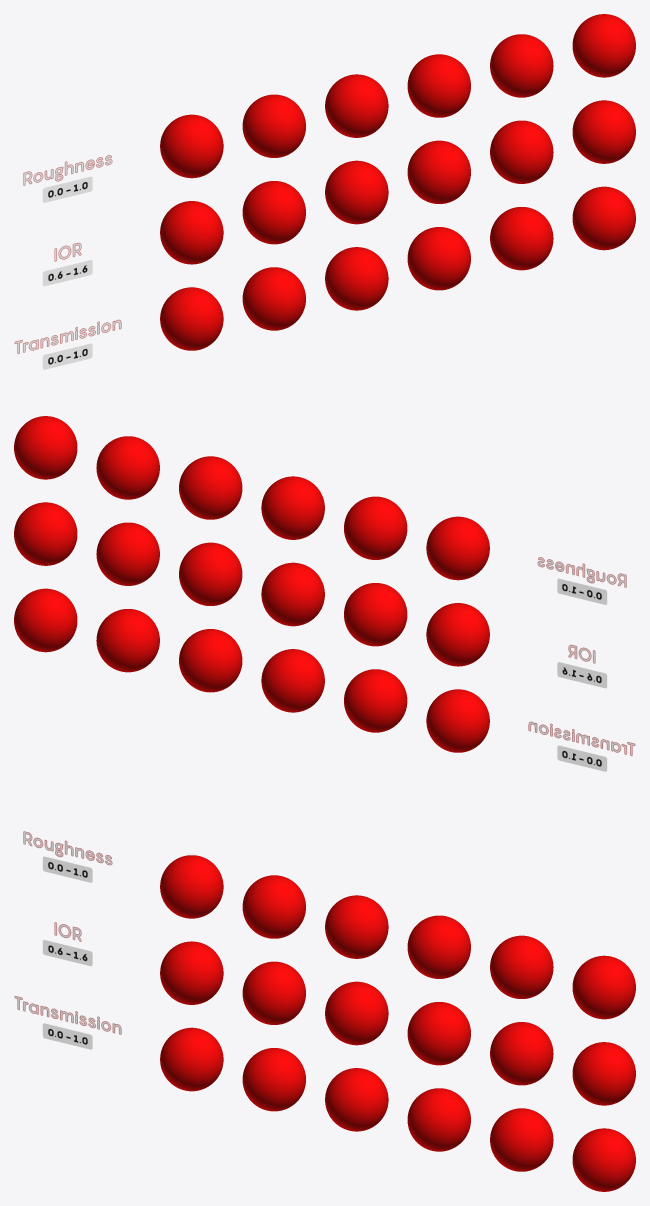
Rendered from TransmissionSpheres.gltf.
3 views of the same model, one above another, from view 1: azimuth 30°, elevation 25°; view 2: azimuth 150°, elevation 25°; view 3: azimuth 330°, elevation 25° (orthographic).
Visible parts, largest first — view 1: object 3, object 17, object 4, object 1, object 6, object 7, object 10, object 11, object 13, object 14, object 15, object 18 (+9 smaller); view 2: object 3, object 17, object 4, object 1, object 6, object 7, object 10, object 11, object 13, object 14, object 15, object 18 (+9 smaller); view 3: object 15, object 5, object 16, object 1, object 2, object 3, object 6, object 7, object 10, object 11, object 13, object 18 (+9 smaller).
Boxes of the visible parts, x1=… form: object 3: x1=325, y1=247, x2=388, y2=310; object 17: x1=490, y1=34, x2=553, y2=97; object 4: x1=407, y1=227, x2=470, y2=290; object 1: x1=160, y1=287, x2=223, y2=350; object 6: x1=572, y1=186, x2=635, y2=250; object 7: x1=160, y1=201, x2=223, y2=264; object 10: x1=407, y1=140, x2=470, y2=203; object 11: x1=490, y1=120, x2=553, y2=183; object 13: x1=160, y1=114, x2=223, y2=178; object 14: x1=242, y1=94, x2=305, y2=157; object 15: x1=325, y1=74, x2=388, y2=137; object 18: x1=572, y1=14, x2=635, y2=77; object 3: x1=261, y1=649, x2=324, y2=712; object 17: x1=96, y1=436, x2=159, y2=499; object 4: x1=179, y1=629, x2=242, y2=692; object 1: x1=426, y1=689, x2=489, y2=752; object 6: x1=14, y1=588, x2=77, y2=652; object 7: x1=426, y1=603, x2=489, y2=666; object 10: x1=179, y1=542, x2=242, y2=605; object 11: x1=96, y1=522, x2=159, y2=585; object 13: x1=426, y1=516, x2=489, y2=580; object 14: x1=344, y1=496, x2=407, y2=559; object 15: x1=261, y1=476, x2=324, y2=539; object 18: x1=14, y1=416, x2=77, y2=479; object 15: x1=325, y1=895, x2=388, y2=958; object 5: x1=490, y1=1108, x2=553, y2=1171; object 16: x1=407, y1=915, x2=470, y2=978; object 1: x1=160, y1=1027, x2=223, y2=1091; object 2: x1=242, y1=1048, x2=305, y2=1111; object 3: x1=325, y1=1068, x2=388, y2=1131; object 6: x1=572, y1=1128, x2=635, y2=1191; object 7: x1=160, y1=941, x2=223, y2=1004; object 10: x1=407, y1=1002, x2=470, y2=1065; object 11: x1=490, y1=1022, x2=553, y2=1085; object 13: x1=160, y1=855, x2=223, y2=918; object 18: x1=572, y1=955, x2=635, y2=1019.
Bounding box in the file's own units: 22.47 × 8 × 2.
21 materials, 3 textured.
